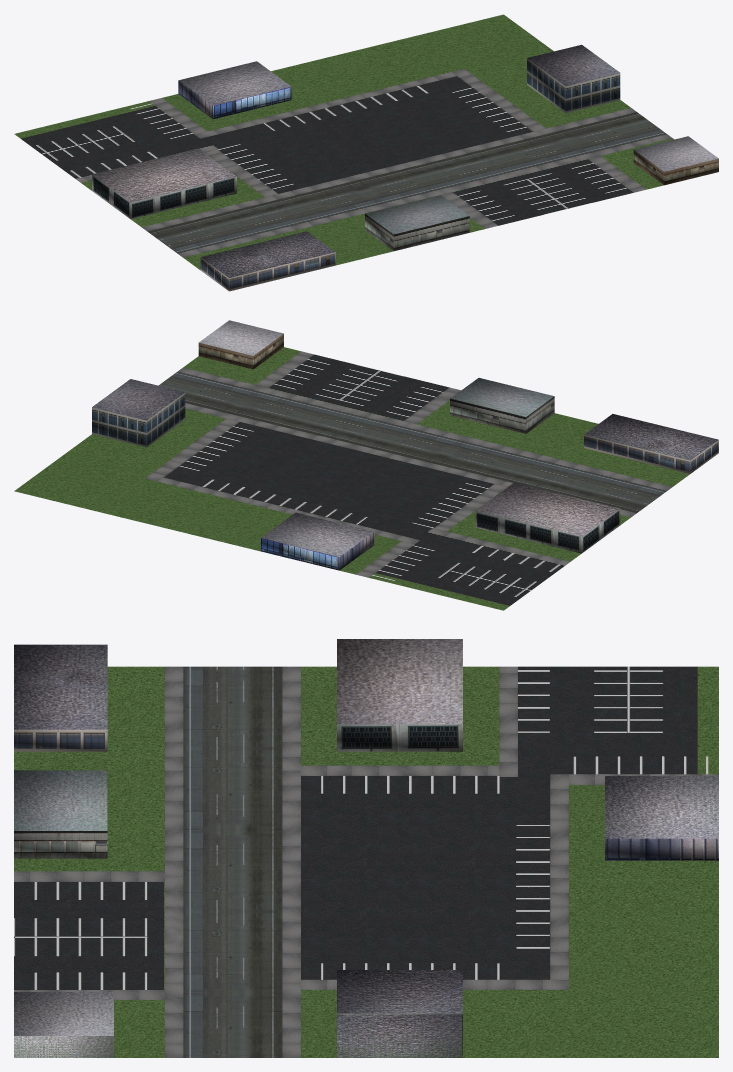
The model's file is site_01floor_transformed.dae.
3 views of the same model, one above another, from view 1: azimuth 30°, elevation 25°; view 2: azimuth 150°, elevation 25°; view 3: azimuth 270°, elevation 25° (orthographic). The views are drawn at different scales.
Parts seen in each view (by area): view 1: Obj_000002, Obj_000003, Obj_000001, Obj_000008, Obj_000004, Obj_000009, Obj_000007, Obj_000005, Obj_000006; view 2: Obj_000002, Obj_000001, Obj_000003, Obj_000008, Obj_000004, Obj_000009, Obj_000007, Obj_000005, Obj_000006; view 3: Obj_000002, Obj_000001, Obj_000003, Obj_000008, Obj_000009, Obj_000004, Obj_000007, Obj_000005, Obj_000006.
Part boxes in pixels (left/top/right/bottom): Obj_000002: left=14, top=14, right=636, bottom=231; Obj_000003: left=148, top=112, right=666, bottom=253; Obj_000001: left=177, top=134, right=674, bottom=270; Obj_000008: left=92, top=148, right=236, bottom=219; Obj_000004: left=200, top=231, right=335, bottom=291; Obj_000009: left=527, top=44, right=620, bottom=112; Obj_000007: left=178, top=61, right=291, bottom=119; Obj_000005: left=365, top=195, right=469, bottom=251; Obj_000006: left=633, top=136, right=718, bottom=185; Obj_000002: left=14, top=403, right=636, bottom=610; Obj_000001: left=177, top=347, right=689, bottom=491; Obj_000003: left=159, top=372, right=666, bottom=512; Obj_000008: left=475, top=482, right=620, bottom=553; Obj_000004: left=584, top=414, right=718, bottom=473; Obj_000009: left=92, top=379, right=185, bottom=447; Obj_000007: left=260, top=512, right=374, bottom=570; Obj_000005: left=450, top=378, right=554, bottom=433; Obj_000006: left=198, top=320, right=283, bottom=369; Obj_000002: left=282, top=666, right=718, bottom=1057; Obj_000001: left=14, top=666, right=184, bottom=1057; Obj_000003: left=184, top=666, right=281, bottom=1057; Obj_000008: left=337, top=639, right=462, bottom=751; Obj_000009: left=337, top=970, right=462, bottom=1057; Obj_000004: left=14, top=644, right=107, bottom=751; Obj_000007: left=605, top=776, right=718, bottom=860; Obj_000005: left=14, top=770, right=107, bottom=858; Obj_000006: left=14, top=992, right=113, bottom=1057.
Bounding box in the file's own units: 760 × 579 × 40.
Materials: 2 (2 with a texture image).
